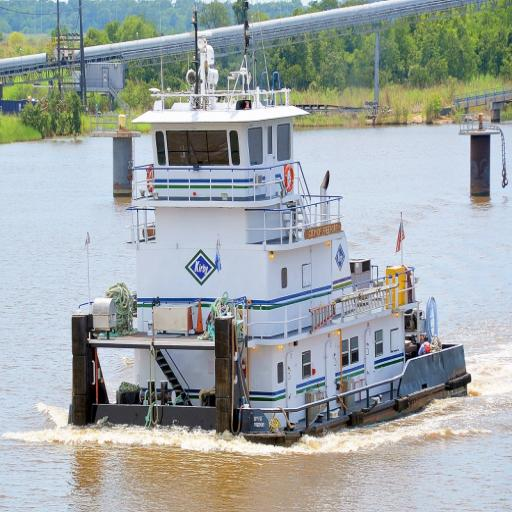tugboat: (65, 83, 476, 466)
